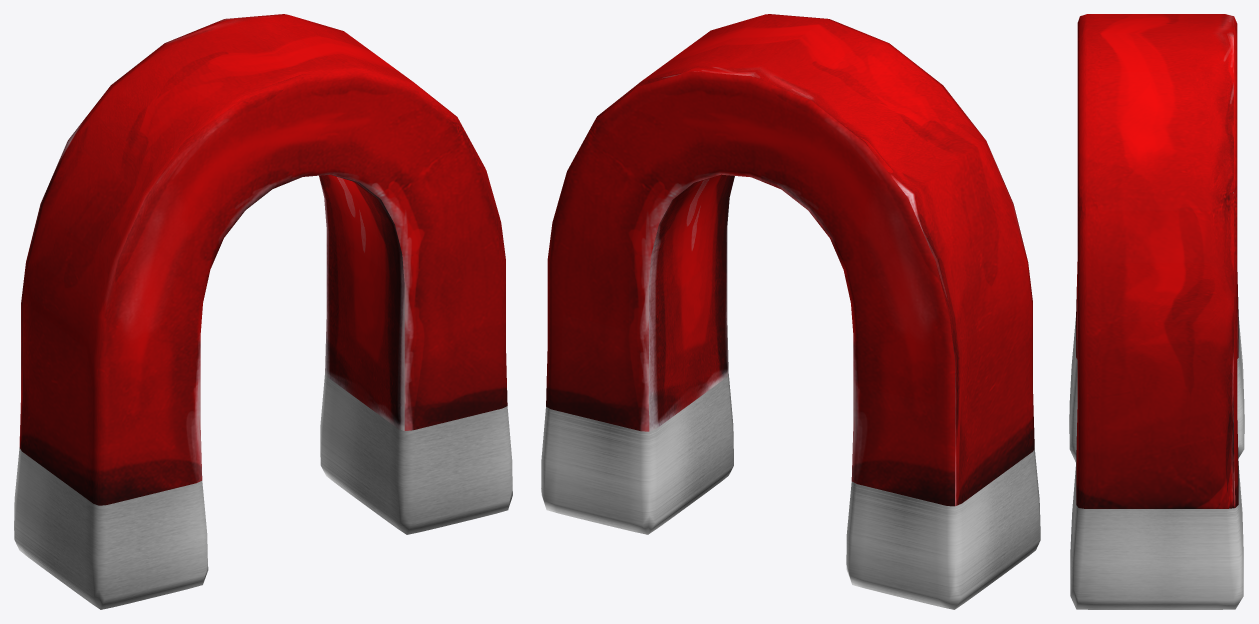
Rendered from magnet-powerup.fbx.
3 renders of one model, left to right at view 1: azimuth 30°, elevation 25°; view 2: azimuth 150°, elevation 25°; view 3: azimuth 270°, elevation 25°, orthographic.
Parts seen in each view (by area): view 1: hipoly_Magnet; view 2: hipoly_Magnet; view 3: hipoly_Magnet.
Boxes of the visible parts, box(x1,y1,x2,y2) form: hipoly_Magnet: box(14, 14, 512, 609); hipoly_Magnet: box(541, 14, 1040, 609); hipoly_Magnet: box(1069, 14, 1244, 609).
Bounding box in the file's own units: 3.3 × 3.64 × 1.21.
